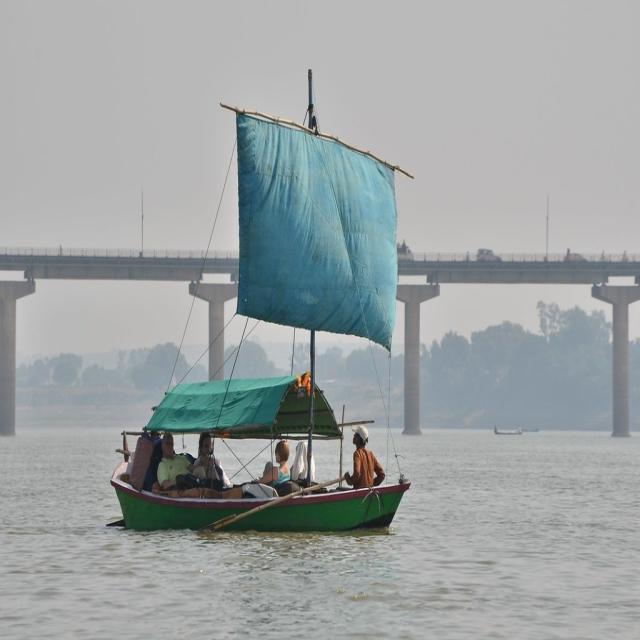boat: (96, 444, 417, 541), (508, 423, 542, 438), (489, 428, 525, 437)
